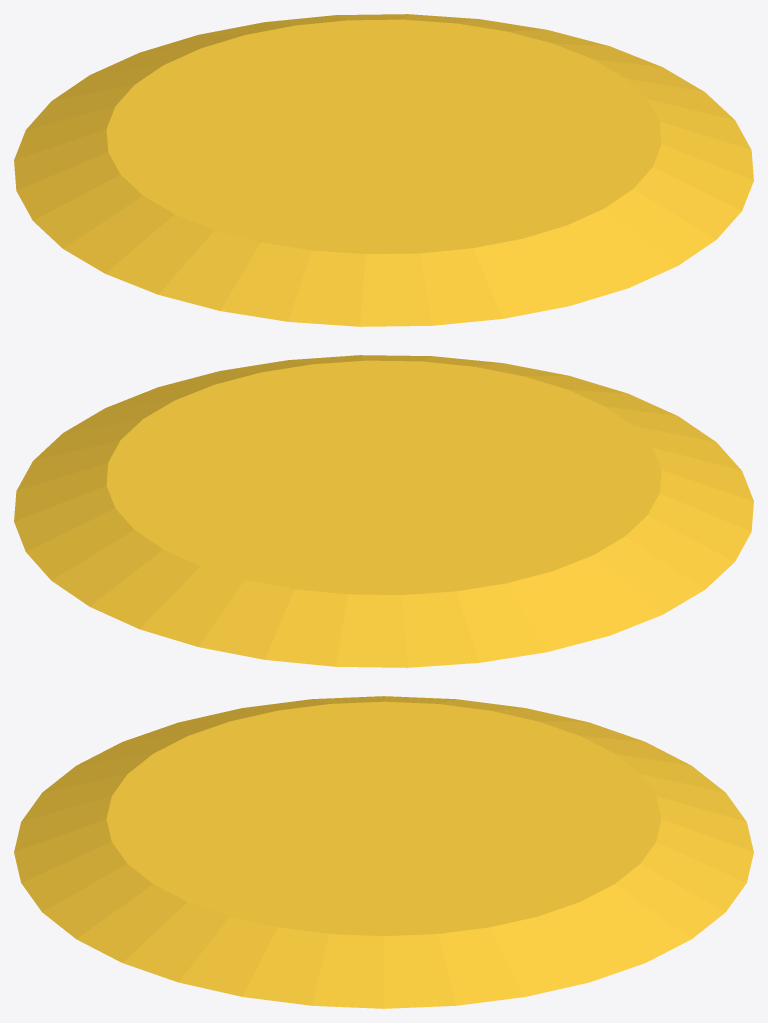
File: Island_Sand.obj
The picture shows the model from 3 angles, top to bottom: view 1: azimuth 30°, elevation 25°; view 2: azimuth 150°, elevation 25°; view 3: azimuth 270°, elevation 25°; orthographic projection.
Visible parts, largest first — view 1: Cone; view 2: Cone; view 3: Cone.
Boxes of the visible parts, x1,y1,x2,y2 form: Cone: (14, 14, 753, 326); Cone: (14, 355, 753, 667); Cone: (14, 696, 753, 1008).
Size of the model in its own units: 100 by 5 by 100.
